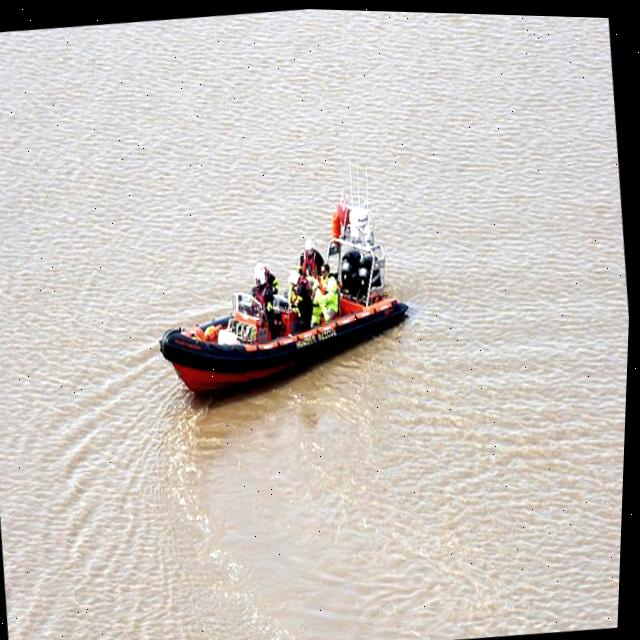rescuer: (280, 264, 317, 341), (245, 268, 281, 343), (311, 255, 345, 325), (299, 271, 335, 330), (249, 255, 284, 301), (291, 234, 329, 276)
